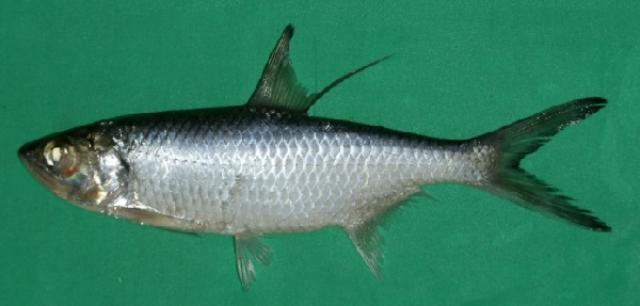Mulut: (9, 136, 57, 194)
Sirip Anal: (346, 184, 438, 286)
Sirip Dada: (106, 192, 206, 242)
Sirip Ekor: (492, 91, 616, 238)
Sirip Perut: (230, 224, 278, 296)
Sirip Punggung: (247, 21, 397, 117)
